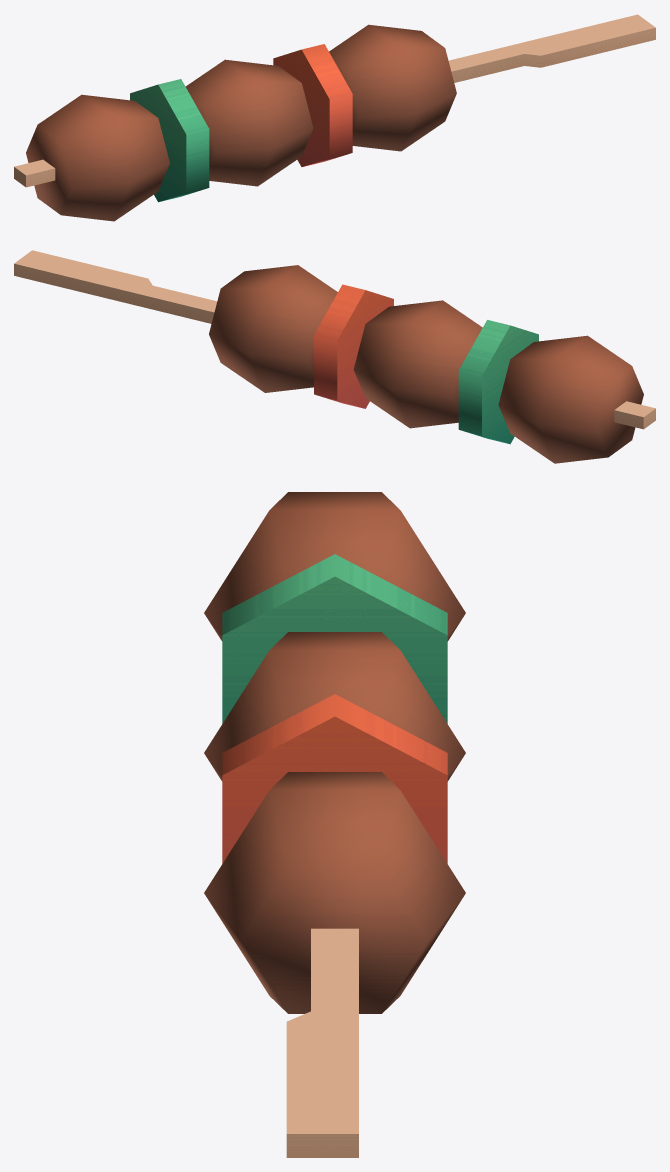
File: skewer-vegetables.glb
The picture shows the model from 3 angles, top to bottom: view 1: azimuth 30°, elevation 25°; view 2: azimuth 150°, elevation 25°; view 3: azimuth 270°, elevation 25°; orthographic projection. The views are drawn at different scales.
Parts seen in each view (by area): view 1: meat (×3), vegetables (×2), skewer-vegetables; view 2: meat (×3), vegetables (×2), skewer-vegetables; view 3: meat (×3), vegetables (×2), skewer-vegetables.
Part boxes in pixels (x1=…): meat (×3): x1=26, y1=24, x2=456, y2=221; vegetables (×2): x1=130, y1=44, x2=352, y2=202; skewer-vegetables: x1=14, y1=14, x2=655, y2=187; meat (×3): x1=209, y1=265, x2=643, y2=463; vegetables (×2): x1=314, y1=284, x2=538, y2=444; skewer-vegetables: x1=14, y1=250, x2=655, y2=429; meat (×3): x1=204, y1=492, x2=465, y2=1013; vegetables (×2): x1=222, y1=554, x2=447, y2=863; skewer-vegetables: x1=286, y1=928, x2=358, y2=1157.
Size of the model in its own units: 0.5967 by 0.1077 by 0.1085.
1 material, 1 textured.
